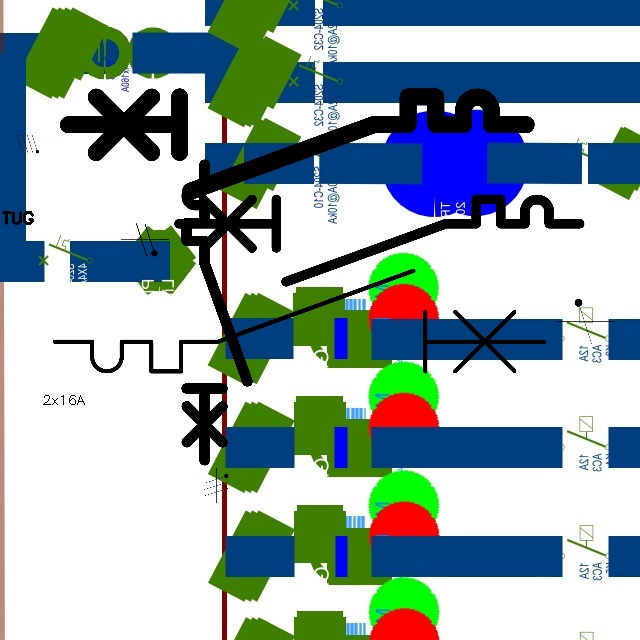interruptor_termomagnetico: (42, 258, 557, 384), (56, 85, 538, 203), (168, 189, 589, 292), (179, 157, 255, 467)
